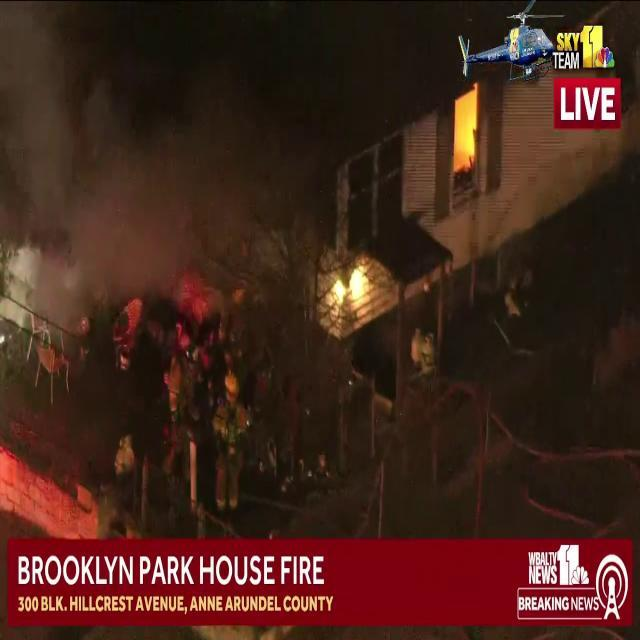Fire: (328, 253, 373, 316), (452, 80, 480, 178)
Smoke: (0, 4, 325, 312)
